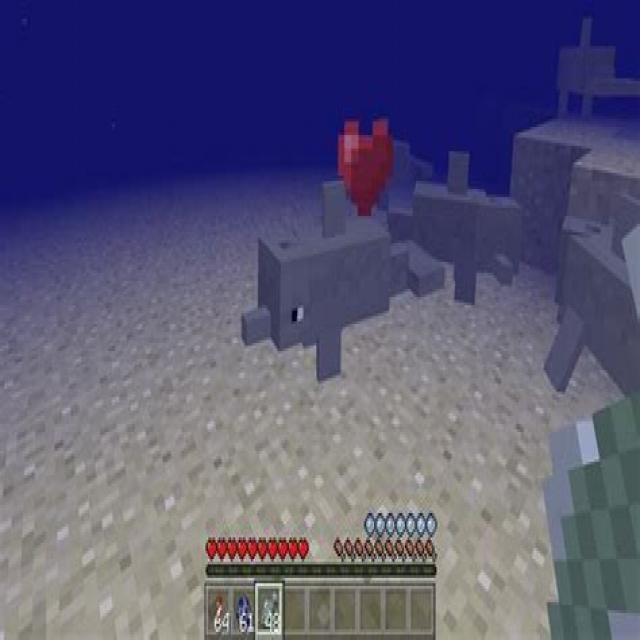Dolphin: (235, 177, 448, 401)
